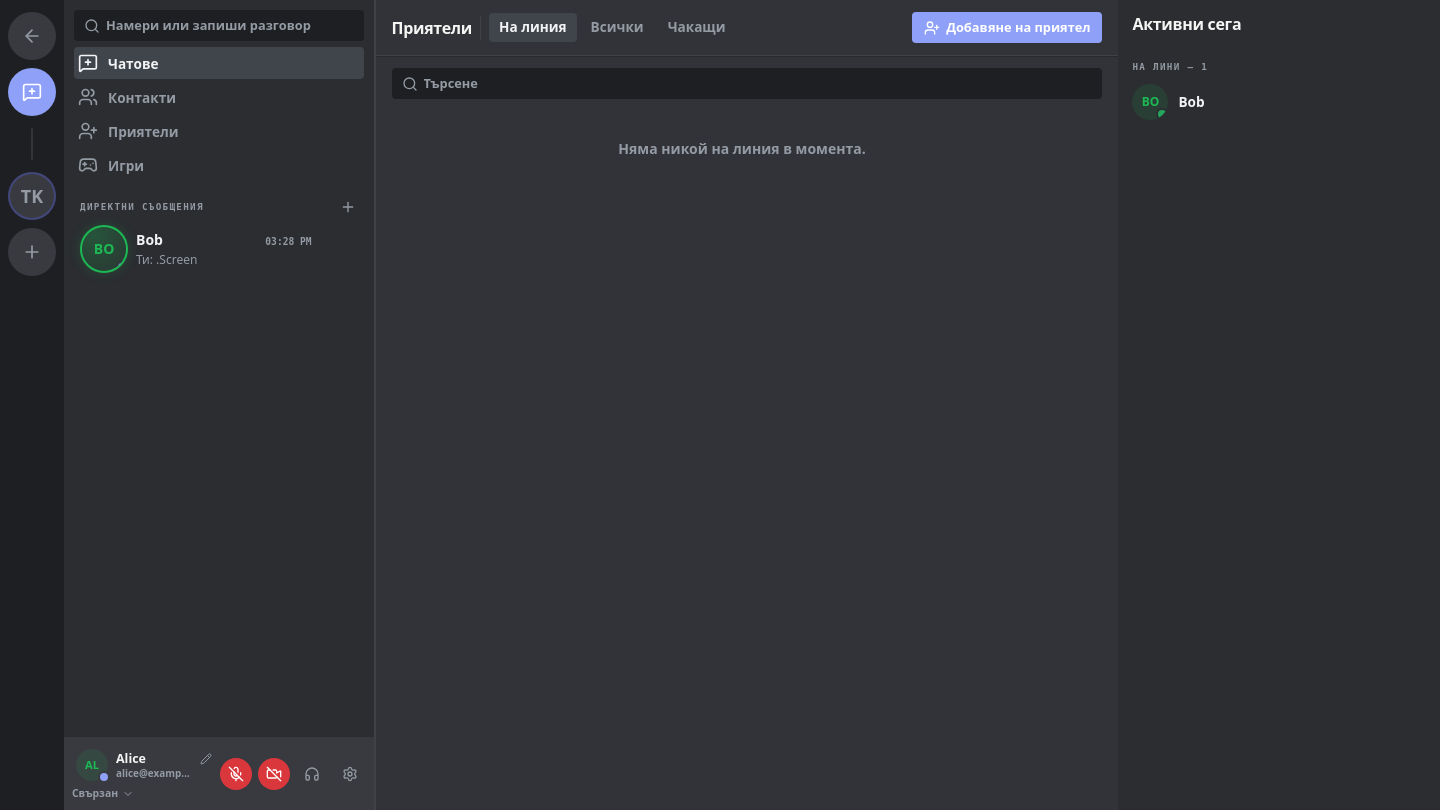
Test: the panes follow the viewport › leads with the list on a phone and swaps to the thread
Later steps or results of the test are not shown.
Step 1. Click the button "BO Bob 03:28 PM Ти: .Screen" → (104, 249), box [70,219,358,279]
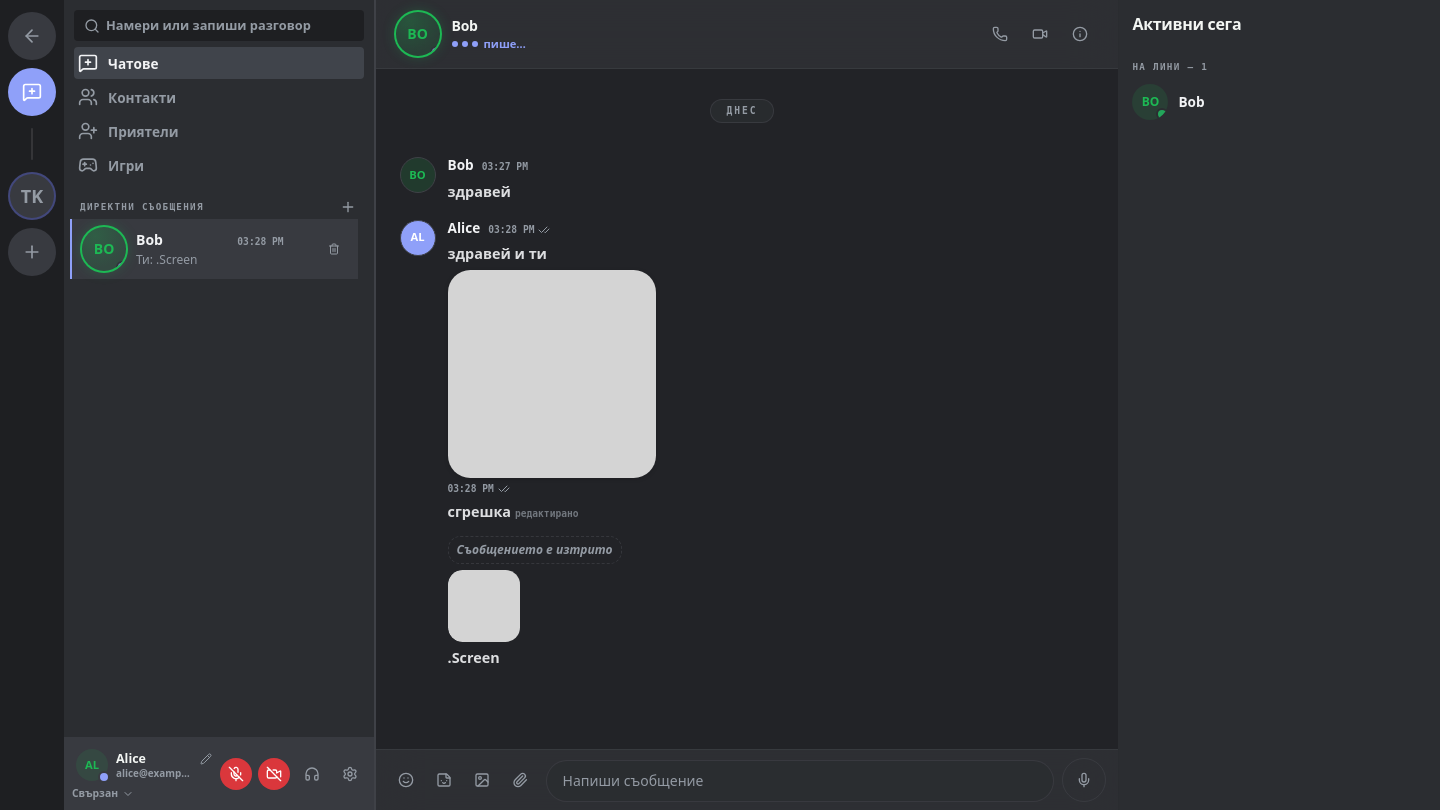
expect the element that starts with "Чатове" has class "hidden lg:flex": met, box [64,0,374,737]
